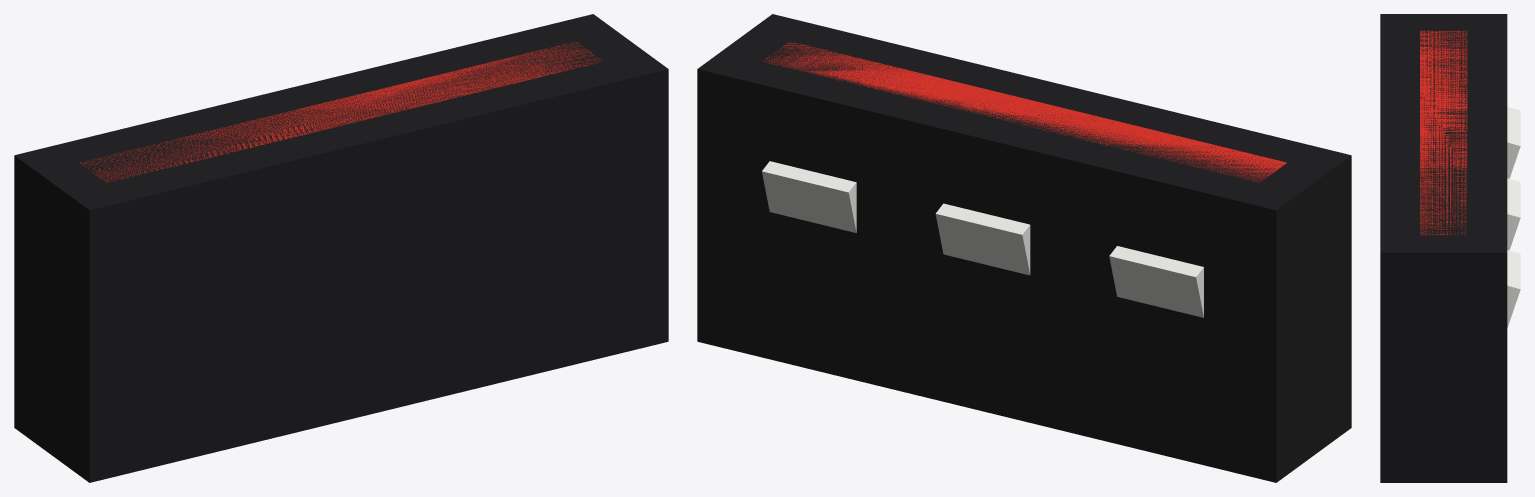
The model's file is env_traffic_barrier.fbx.
3 renders of one model, left to right at view 1: azimuth 30°, elevation 25°; view 2: azimuth 150°, elevation 25°; view 3: azimuth 270°, elevation 25°, orthographic. The views are drawn at different scales.
Visible parts, largest first — view 1: COL_env_traffic_barrier, env_traffic_barrier_geo; view 2: COL_env_traffic_barrier, env_traffic_barrier_geo; view 3: COL_env_traffic_barrier, env_traffic_barrier_geo.
Part boxes in pixels (bbox=[...]): COL_env_traffic_barrier: bbox=[14, 14, 668, 482]; env_traffic_barrier_geo: bbox=[79, 42, 602, 182]; COL_env_traffic_barrier: bbox=[697, 14, 1351, 482]; env_traffic_barrier_geo: bbox=[762, 42, 1286, 317]; COL_env_traffic_barrier: bbox=[1380, 14, 1507, 482]; env_traffic_barrier_geo: bbox=[1420, 30, 1520, 327].
Bounding box in the file's own units: 2 × 0.9 × 0.4975.
